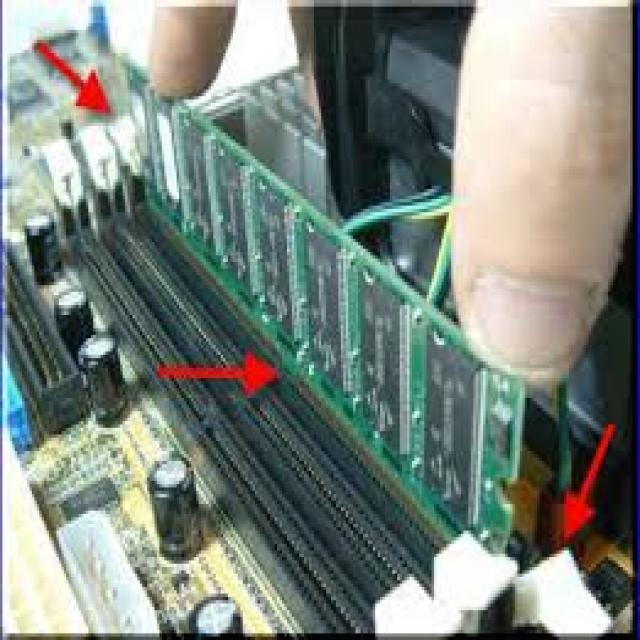Ram: (9, 21, 620, 639)
